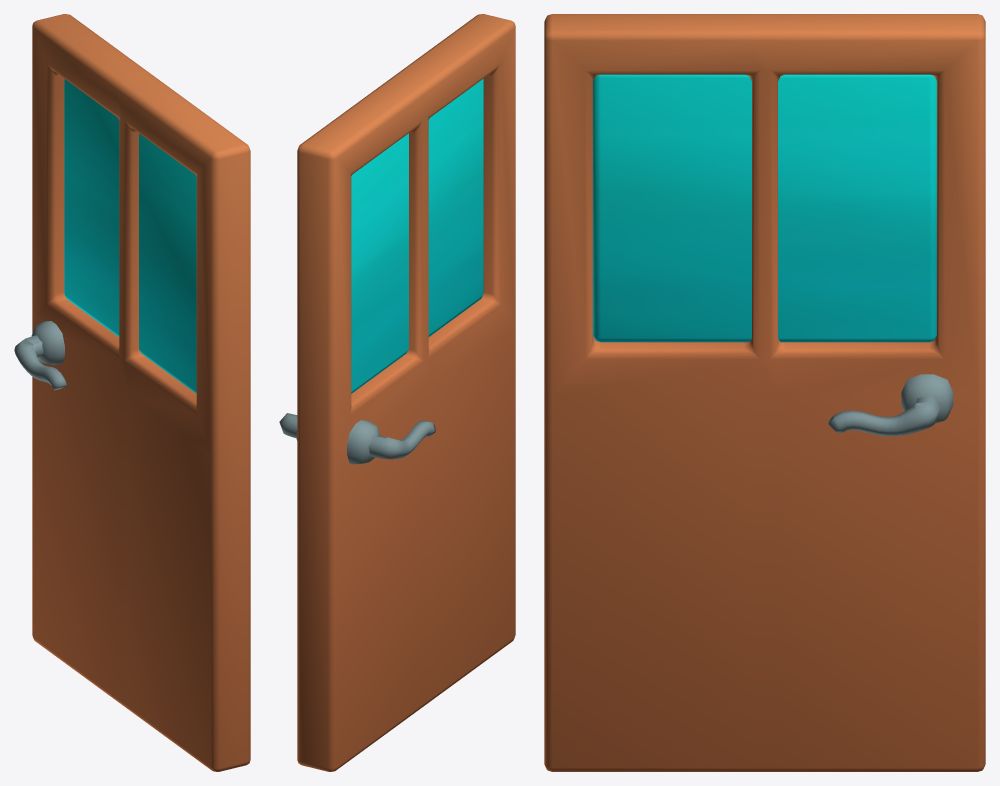
Rendered from Door.fbx.
The picture shows the model from 3 angles, left to right: view 1: azimuth 30°, elevation 25°; view 2: azimuth 150°, elevation 25°; view 3: azimuth 270°, elevation 25°; orthographic projection. The views are drawn at different scales.
Visible parts, largest first — view 1: Cube.043; view 2: Cube.043; view 3: Cube.043.
Boxes of the visible parts, bbox=[...] form: Cube.043: bbox=[14, 14, 250, 771]; Cube.043: bbox=[279, 14, 515, 771]; Cube.043: bbox=[544, 14, 985, 771].
Size of the model in its own units: 0.7561 by 3.71 by 2.
